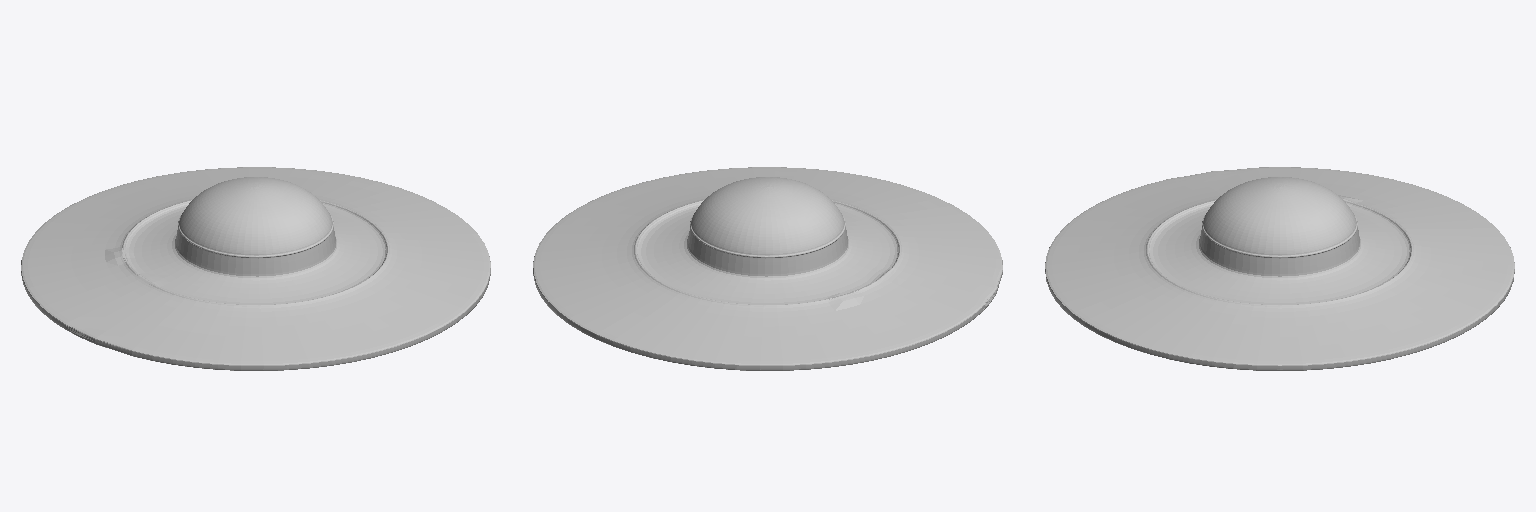
The model's file is Ufo.obj.
3 renders of one model, left to right at view 1: azimuth 30°, elevation 25°; view 2: azimuth 150°, elevation 25°; view 3: azimuth 270°, elevation 25°, orthographic.
Visible parts, largest first — view 1: Sphere, Sphere.002_Sphere.012; view 2: Sphere, Sphere.002_Sphere.012; view 3: Sphere, Sphere.002_Sphere.012.
Boxes of the visible parts, box(x1,y1,x2,y2) form: Sphere: box(21, 167, 490, 370); Sphere.002_Sphere.012: box(180, 177, 331, 253); Sphere: box(533, 167, 1002, 370); Sphere.002_Sphere.012: box(692, 177, 843, 253); Sphere: box(1045, 167, 1514, 370); Sphere.002_Sphere.012: box(1204, 177, 1355, 253).
Size of the model in its own units: 9.86 by 3.19 by 9.86.